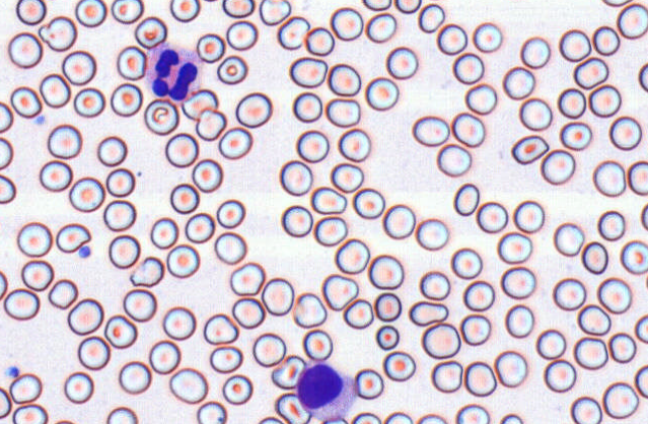GRAN: (144, 44, 207, 103)
MONO: (297, 363, 363, 421)
PLT: (4, 365, 22, 380), (77, 245, 92, 259), (34, 115, 47, 126)
RBC: (602, 381, 639, 419), (421, 322, 460, 358), (169, 367, 208, 403), (235, 91, 272, 128), (38, 15, 76, 51), (67, 298, 103, 335), (322, 273, 358, 310), (368, 253, 404, 289), (68, 176, 104, 212), (540, 148, 575, 185), (143, 98, 178, 135), (7, 31, 42, 68), (592, 159, 626, 197), (334, 238, 369, 274), (17, 221, 52, 257), (597, 277, 632, 313), (493, 350, 527, 387), (261, 277, 294, 315), (61, 50, 96, 85), (229, 261, 265, 295), (292, 292, 326, 328), (451, 111, 485, 147), (279, 159, 312, 196), (289, 56, 327, 88), (276, 15, 310, 50), (47, 124, 81, 159), (3, 287, 39, 320), (382, 203, 415, 239), (181, 88, 218, 120), (252, 332, 286, 366), (103, 314, 137, 348), (162, 306, 196, 340), (122, 288, 156, 322), (365, 76, 399, 110), (166, 243, 199, 278), (165, 132, 198, 167), (573, 56, 608, 89), (573, 336, 608, 369), (77, 335, 110, 370), (500, 266, 535, 299), (436, 143, 471, 176), (609, 115, 642, 150), (412, 115, 449, 146), (118, 360, 151, 394), (502, 66, 535, 100), (552, 277, 586, 310), (218, 126, 252, 159), (330, 6, 363, 40), (518, 97, 552, 130), (327, 63, 361, 96), (148, 339, 180, 374), (464, 361, 496, 396), (497, 231, 532, 263), (275, 392, 311, 423), (543, 359, 576, 392), (296, 129, 329, 162), (337, 128, 370, 161), (558, 28, 591, 61), (588, 84, 621, 117), (231, 297, 265, 329), (577, 303, 611, 335), (108, 234, 140, 268), (203, 313, 238, 344), (39, 73, 70, 108), (617, 3, 647, 39), (9, 372, 42, 404), (281, 204, 313, 237), (415, 218, 448, 250), (352, 187, 385, 219), (214, 231, 246, 264), (110, 83, 142, 116), (134, 16, 167, 48), (103, 199, 136, 231), (464, 83, 497, 115), (385, 46, 417, 79), (191, 158, 222, 192), (553, 222, 584, 256), (325, 97, 360, 127), (116, 45, 146, 80), (310, 186, 347, 214), (21, 259, 53, 291), (450, 247, 482, 279), (476, 201, 508, 233), (452, 52, 484, 84), (195, 108, 226, 141), (431, 360, 462, 393), (382, 350, 415, 381), (39, 160, 72, 191), (462, 280, 495, 311), (513, 200, 544, 233), (313, 216, 347, 246), (504, 304, 534, 338), (460, 313, 491, 345), (436, 23, 467, 55), (10, 86, 41, 118), (330, 162, 363, 192), (63, 371, 93, 404), (96, 135, 127, 166), (342, 298, 373, 329), (184, 212, 215, 243), (535, 328, 566, 359), (225, 20, 257, 50), (73, 87, 105, 117), (520, 36, 550, 68), (559, 121, 592, 150), (48, 278, 78, 309), (222, 374, 252, 405), (302, 329, 332, 360), (419, 270, 450, 300), (216, 54, 247, 84), (365, 12, 396, 42), (472, 21, 502, 52), (292, 91, 322, 122), (209, 345, 242, 373), (620, 240, 647, 274), (169, 183, 199, 213), (105, 167, 135, 197), (304, 26, 334, 56), (354, 368, 383, 399), (557, 87, 586, 118), (150, 217, 178, 249), (581, 241, 608, 274), (453, 182, 479, 216), (196, 33, 225, 63), (608, 332, 636, 363), (597, 210, 625, 241), (74, 0, 106, 27), (570, 396, 602, 423), (216, 199, 245, 228), (417, 3, 445, 33), (592, 25, 620, 55), (258, 0, 291, 25), (373, 292, 401, 321), (110, 0, 143, 24), (15, 0, 46, 25), (12, 403, 48, 423), (627, 160, 647, 195), (196, 400, 226, 423), (169, 0, 200, 22), (455, 403, 489, 423), (375, 324, 399, 350), (221, 0, 254, 18), (106, 406, 137, 423), (0, 174, 16, 203), (634, 364, 647, 398), (0, 136, 13, 169), (0, 101, 13, 132), (0, 386, 12, 418), (634, 314, 647, 343), (383, 411, 413, 423), (351, 411, 381, 423), (394, 0, 421, 13), (362, 0, 391, 11), (416, 413, 447, 423), (638, 62, 647, 91), (499, 413, 523, 423), (0, 270, 8, 299), (601, 0, 632, 7), (640, 202, 647, 230), (321, 416, 348, 423), (257, 416, 283, 423), (54, 419, 75, 423)
Schistocyte: (510, 134, 550, 165), (270, 355, 306, 389), (408, 299, 452, 326), (55, 223, 93, 253), (129, 257, 164, 287)
